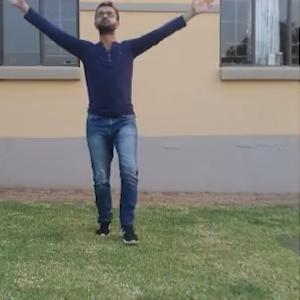takeoff: (0, 0, 219, 242)
